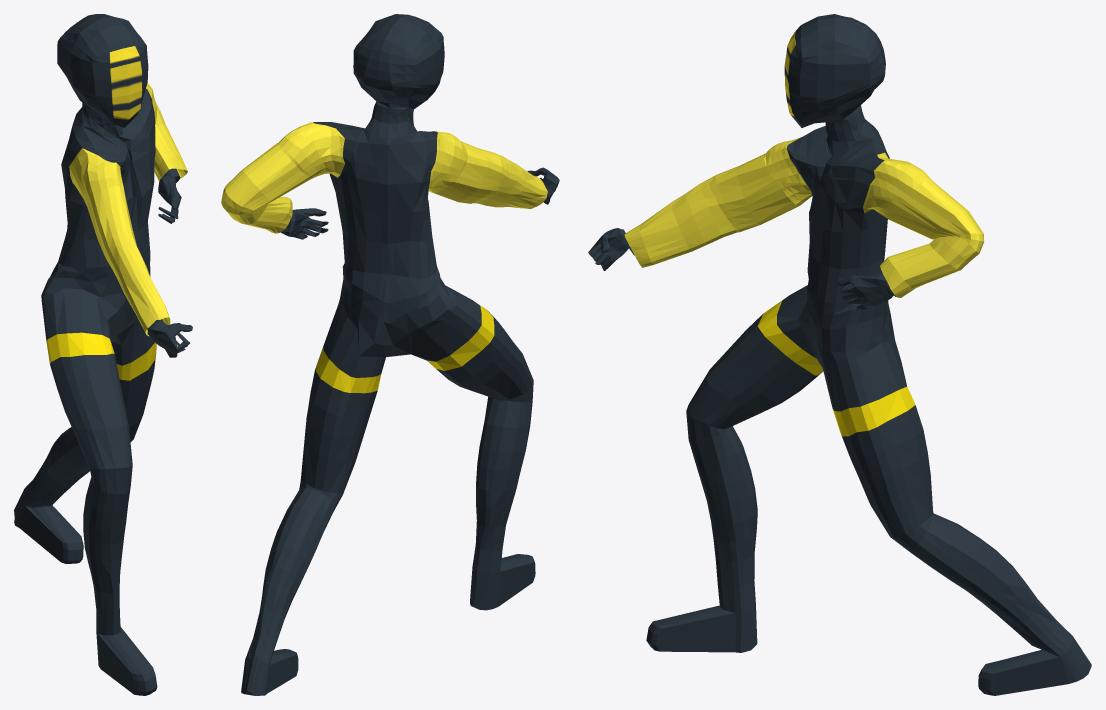
Rendered from Sentry_WR_000027.obj.
3 renders of one model, left to right at view 1: azimuth 30°, elevation 25°; view 2: azimuth 150°, elevation 25°; view 3: azimuth 270°, elevation 25°, orthographic. The views are drawn at different scales.
Parts seen in each view (by area): view 1: Cube; view 2: Cube; view 3: Cube.
Boxes of the visible parts, x1,y1,x2,y2 form: Cube: (14,14,192,695); Cube: (221,14,559,695); Cube: (588,14,1091,695).
Size of the model in its own units: 1.18 by 3.61 by 2.52.
